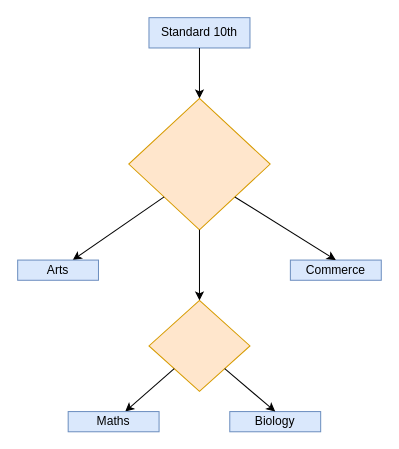
Some shapes in this 399 by 449 pixel diagram are drawn without their labels. The box of each missing label's shape, as (x1, y1, x2, y2) in pixels:
Science: (148, 299, 250, 391)
Thinking: (128, 97, 270, 230)
